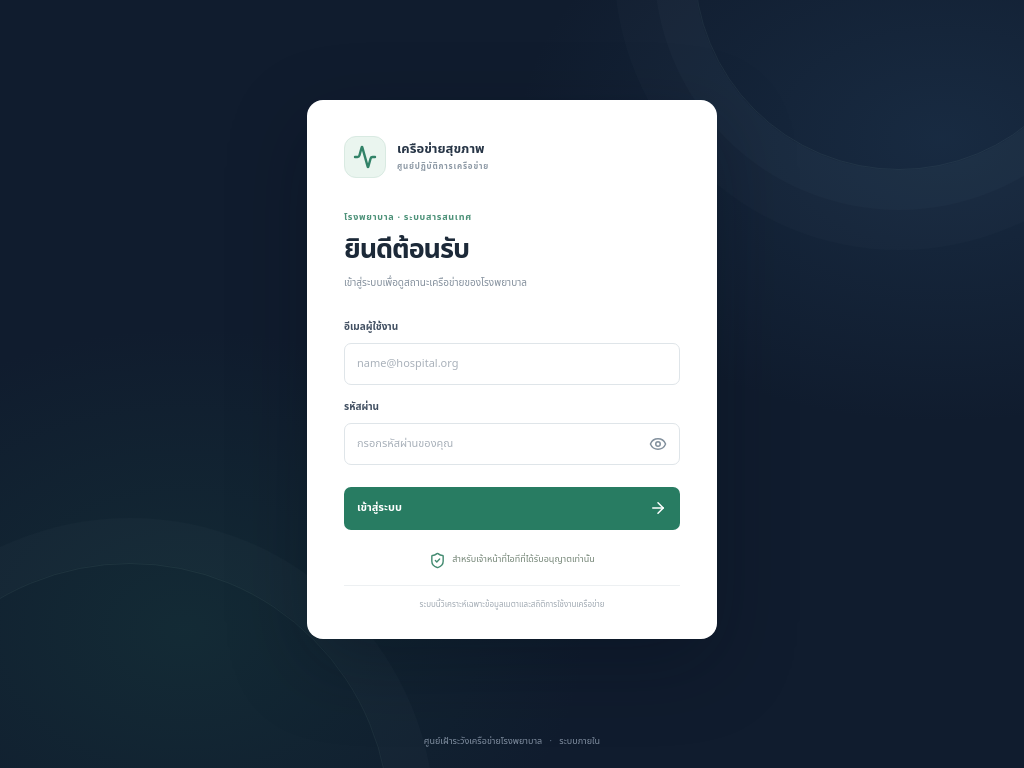
Test case: application authentication flow › logs in through the API and opens the protected dashboard
In the field labelled "อีเมลผู้ใช้งาน": (512, 364) [344, 342, 680, 384], type "it.admin@hospital.org"
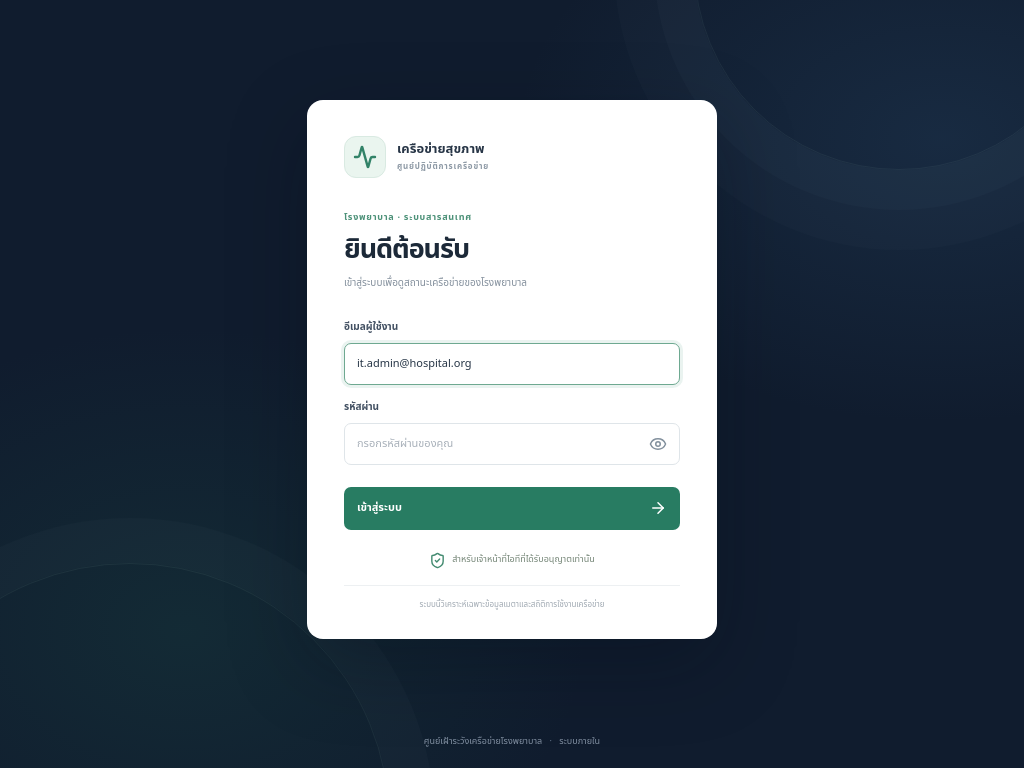
In the password field labelled "รหัสผ่าน": (512, 444) [344, 422, 680, 464], type "secure-password"
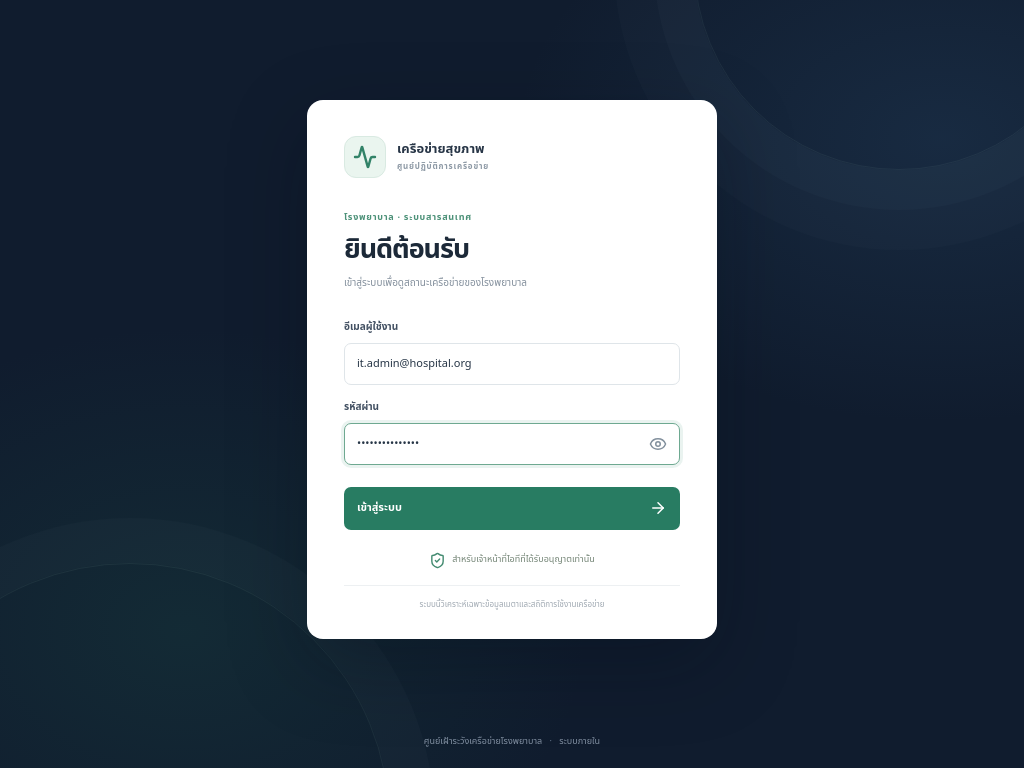
Click the button "เข้าสู่ระบบ": click(379, 507) [344, 486, 680, 530]
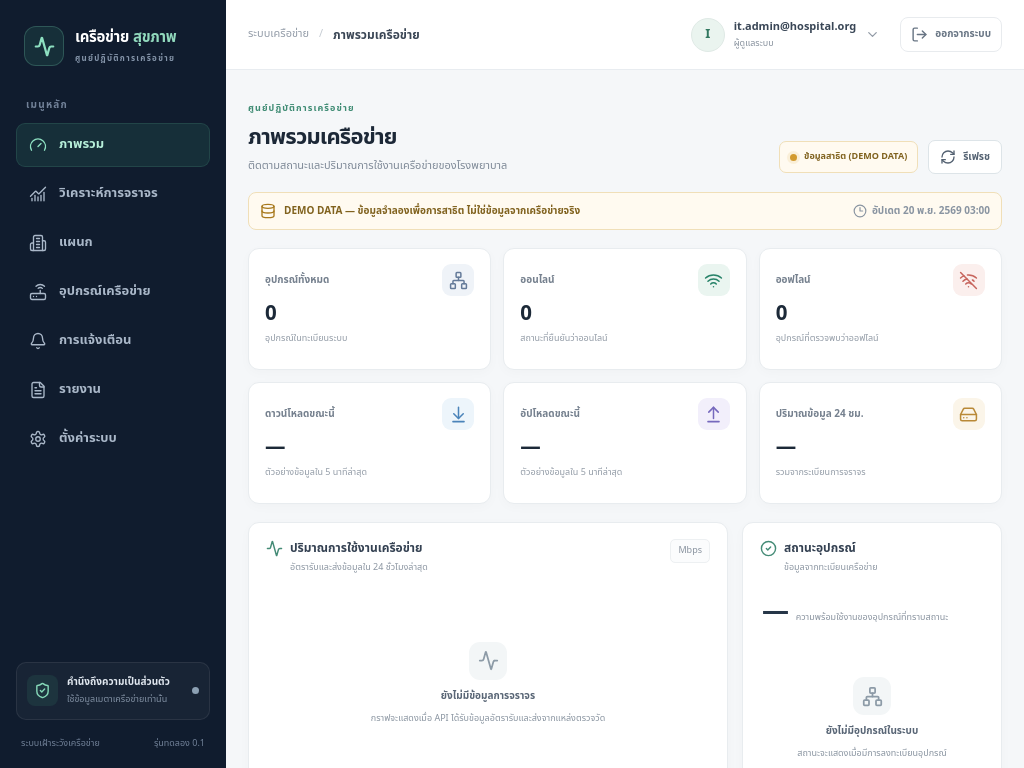
Now the heading "ภาพรวมเครือข่าย" is shown, box [248, 120, 397, 154]
Now the text "DEMO DATA — ข้อมูลจำลองเพื่อการสาธิต" is shown, box [284, 202, 580, 218]
